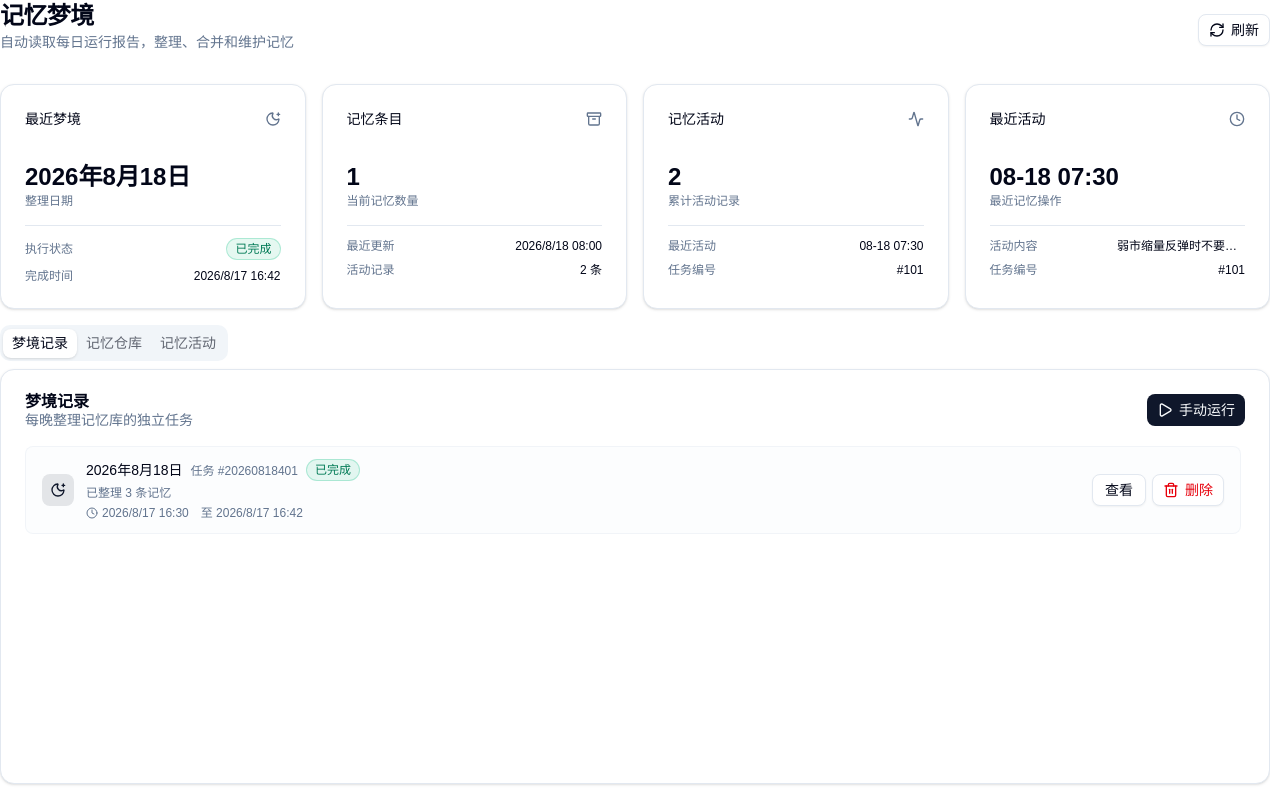
Test case: MemoryOverviewPage › opens dream detail and jumps to filtered activity records
Expected: the text "已整理 3 条记忆" is shown, [86,486,171,500]
Click the button "查看": point(1119, 490) [1092,474,1146,506]
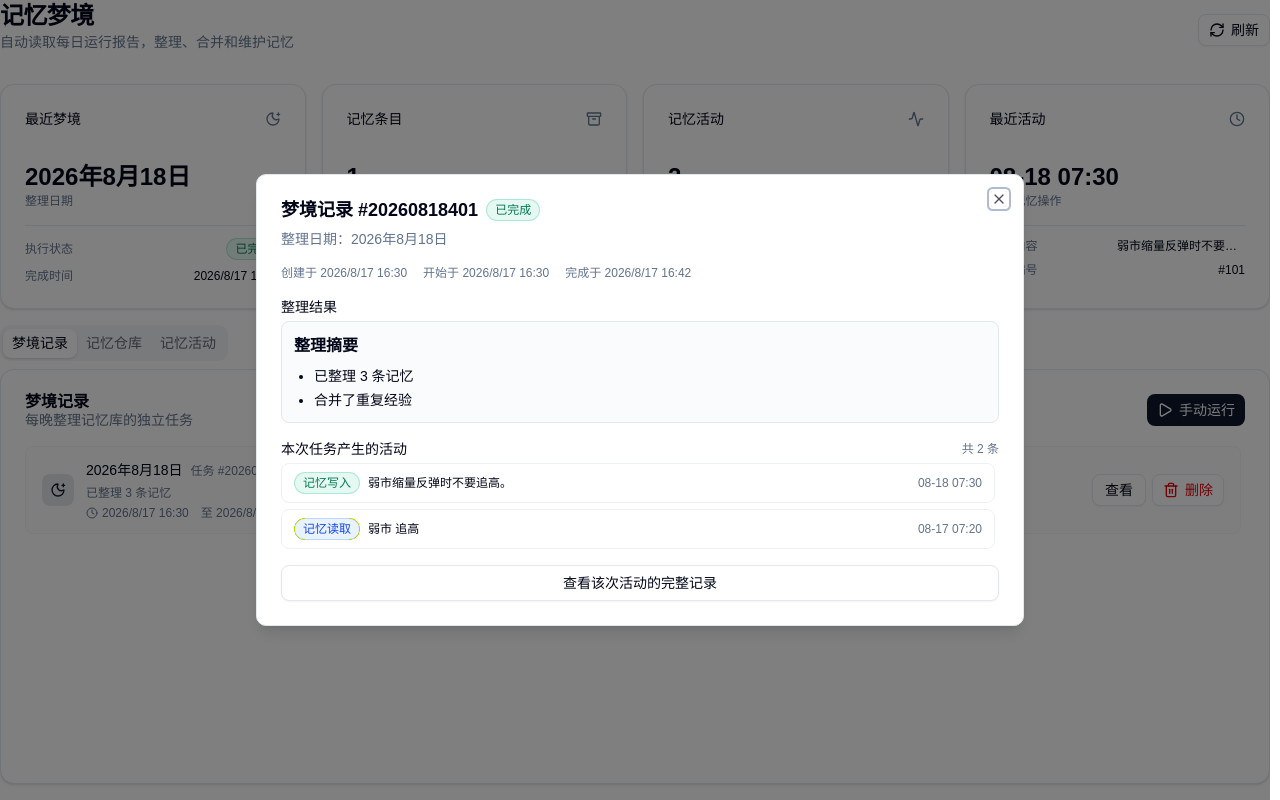
Result: the dialog is shown at [256,174,1024,626]
Result: the heading "整理摘要" is shown at [294,337,358,354]
Result: the list item "合并了重复经验" is shown at [314,392,412,408]
Click the button "查看该次活动的完整记录": point(640, 583) [281,565,999,601]
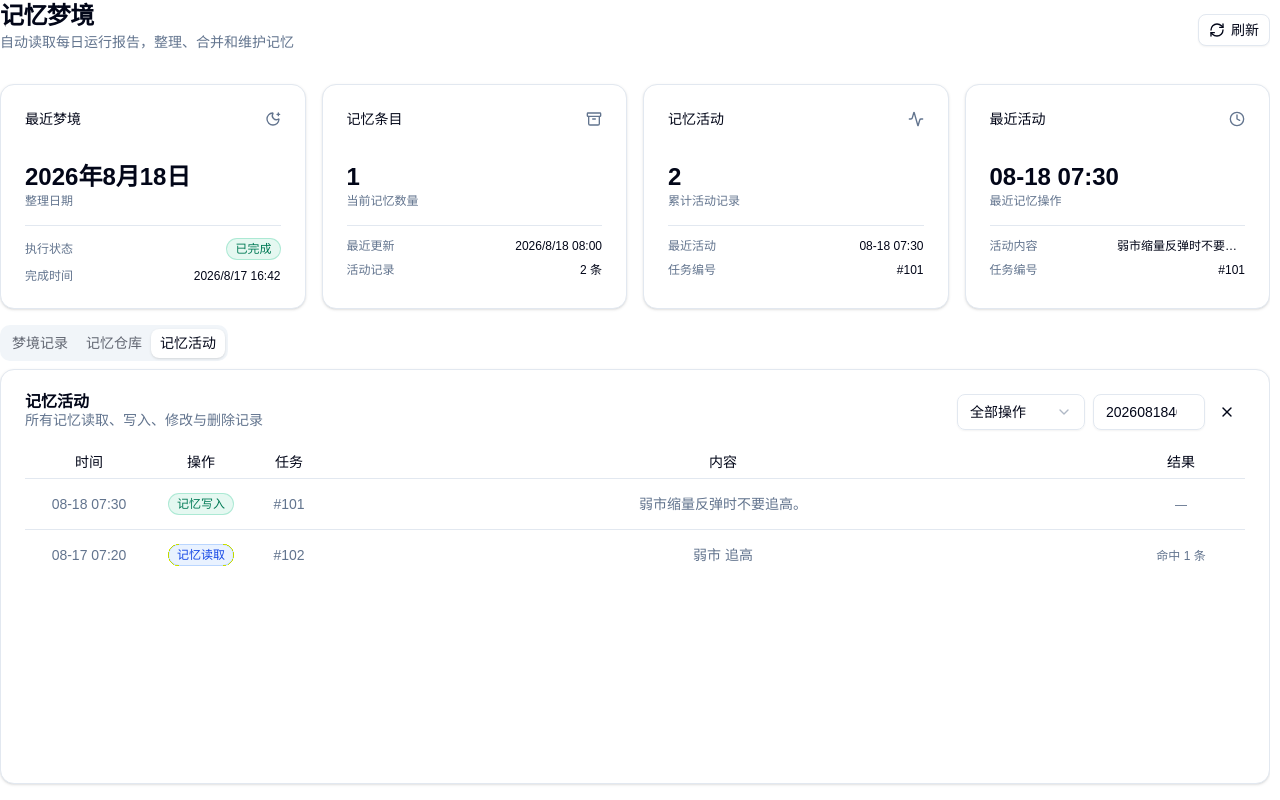
Result: the number field named "任务编号筛选" holds "20260818401" at [1093,394,1205,430]
